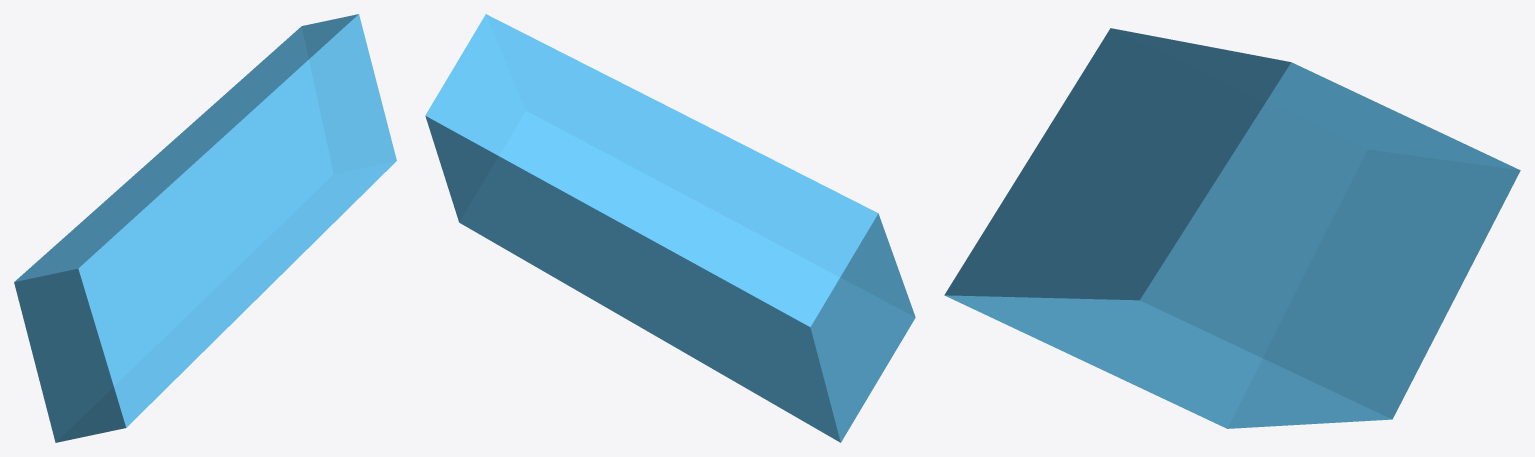
File: Event_421364160_HErechit_0.fbx
3 views of the same model, side by side, from view 1: azimuth 30°, elevation 25°; view 2: azimuth 150°, elevation 25°; view 3: azimuth 270°, elevation 25° (orthographic). The views are drawn at different scales.
Visible parts, largest first — view 1: Model; view 2: Model; view 3: Model.
Boxes of the visible parts, left/top/right/bottom form: Model: left=14, top=14, right=396, bottom=442; Model: left=425, top=14, right=915, bottom=442; Model: left=944, top=28, right=1520, bottom=428.
Bounding box in the file's own units: 1.27 × 1.26 × 0.9731.
